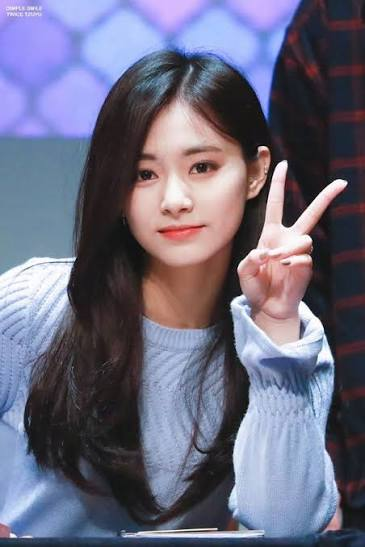peace_sign: (241, 158, 354, 321)
